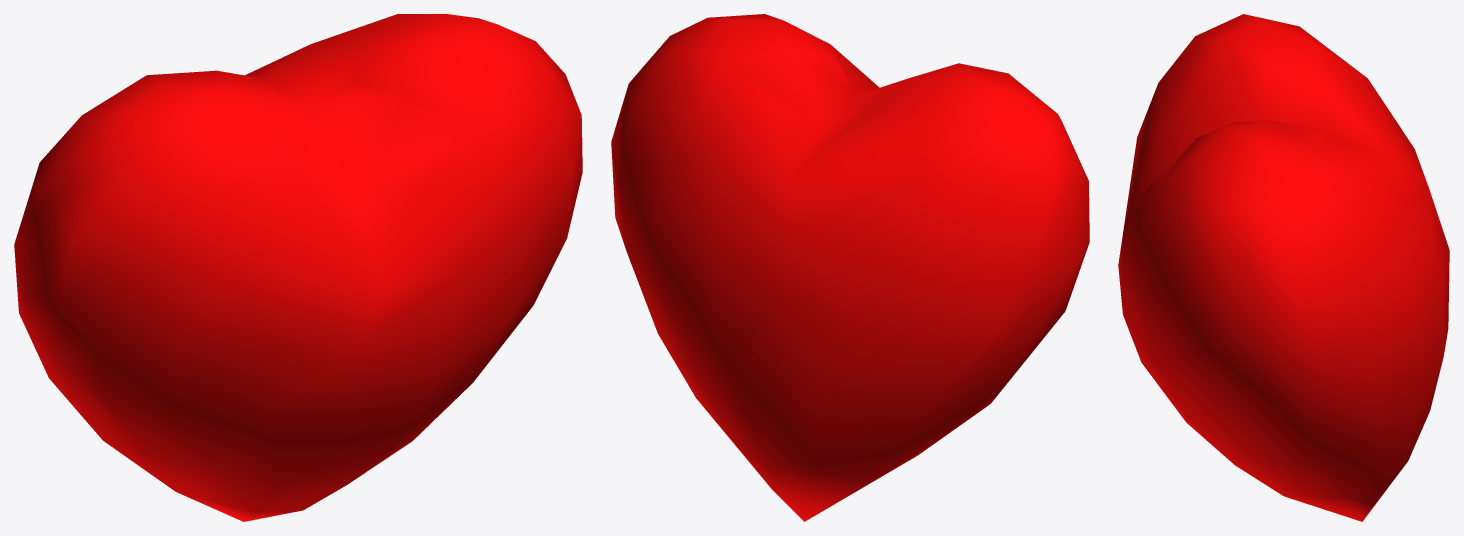
File: MeshAnimator.fbx
The picture shows the model from 3 angles, left to right: view 1: azimuth 30°, elevation 25°; view 2: azimuth 150°, elevation 25°; view 3: azimuth 270°, elevation 25°; orthographic projection. The views are drawn at different scales.
Visible parts, largest first — view 1: healing_heart; view 2: healing_heart; view 3: healing_heart.
Boxes of the visible parts, left/top/right/bottom form: healing_heart: left=14, top=14, right=582, bottom=521; healing_heart: left=611, top=14, right=1089, bottom=521; healing_heart: left=1118, top=14, right=1449, bottom=521.
Bounding box in the file's own units: 1.35 × 1.23 × 0.8355.
